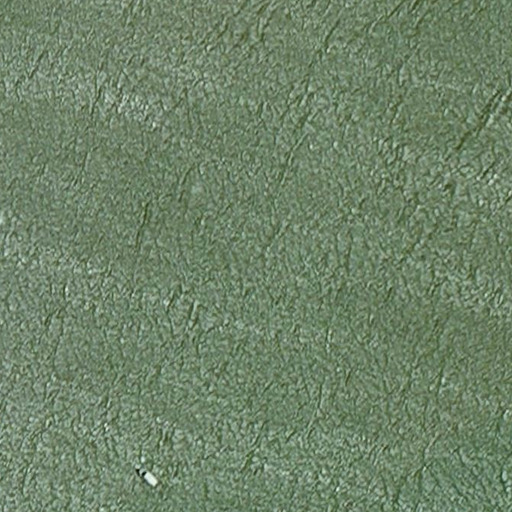ship: (136, 465, 160, 489)
